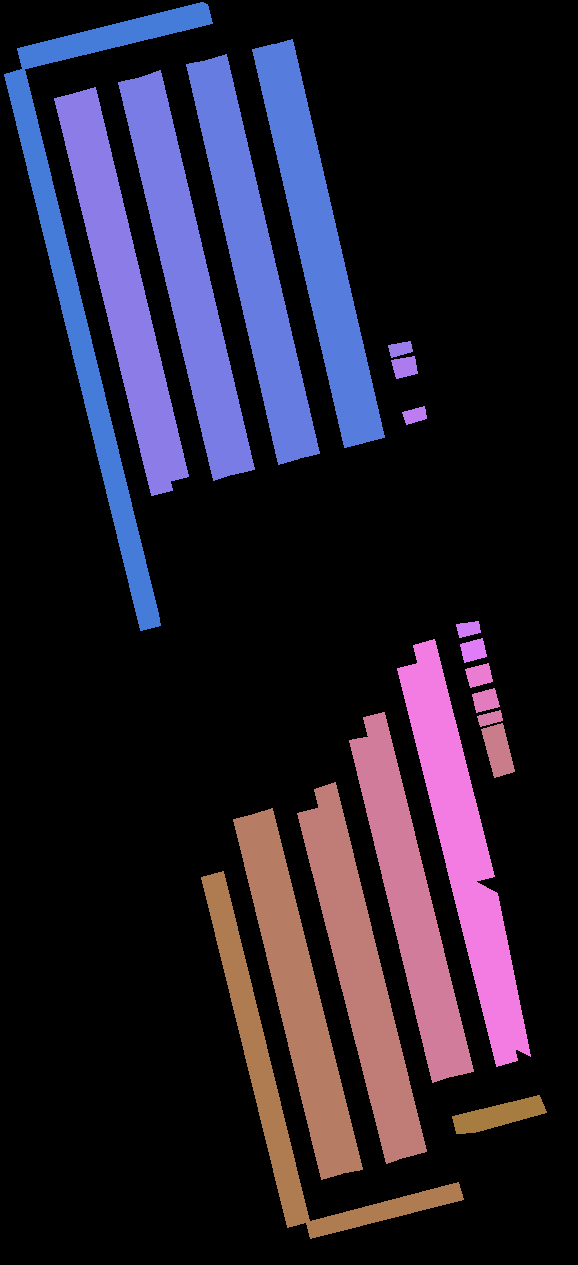parkingspot: (4, 68, 160, 630), (397, 663, 517, 1066), (54, 93, 172, 495), (118, 77, 234, 480), (140, 70, 254, 474), (186, 60, 299, 464), (206, 54, 319, 458), (252, 44, 365, 447), (271, 39, 384, 442), (74, 87, 188, 481), (314, 782, 426, 1157), (363, 712, 473, 1076), (253, 808, 362, 1173), (233, 814, 342, 1179), (297, 807, 406, 1163), (201, 871, 309, 1227), (349, 736, 453, 1082), (413, 639, 494, 882), (17, 2, 212, 69), (471, 880, 530, 1056), (306, 1182, 463, 1238), (452, 1095, 546, 1133), (481, 723, 514, 777), (465, 663, 492, 687), (472, 688, 499, 712), (460, 638, 486, 662), (391, 356, 417, 378), (402, 406, 426, 424), (477, 710, 502, 726), (388, 341, 412, 357), (456, 621, 480, 637)
